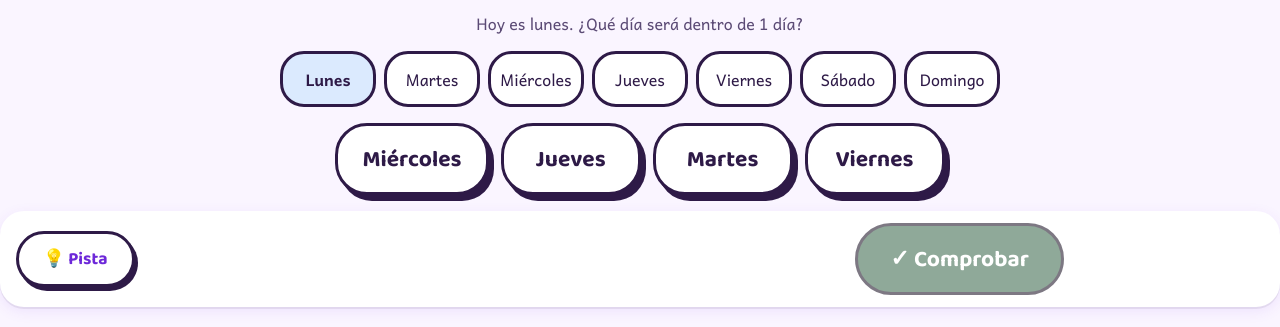
CalendarView › chooses the weekday after the days counted
Click the button "martes" at (723, 159), box [653,123,793,195]
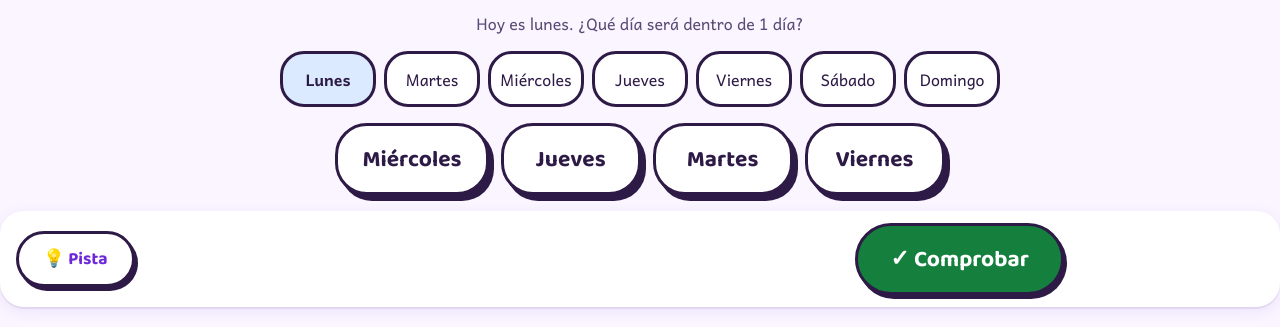
Click the button "✓ Comprobar" at (960, 259), box [855,223,1064,295]
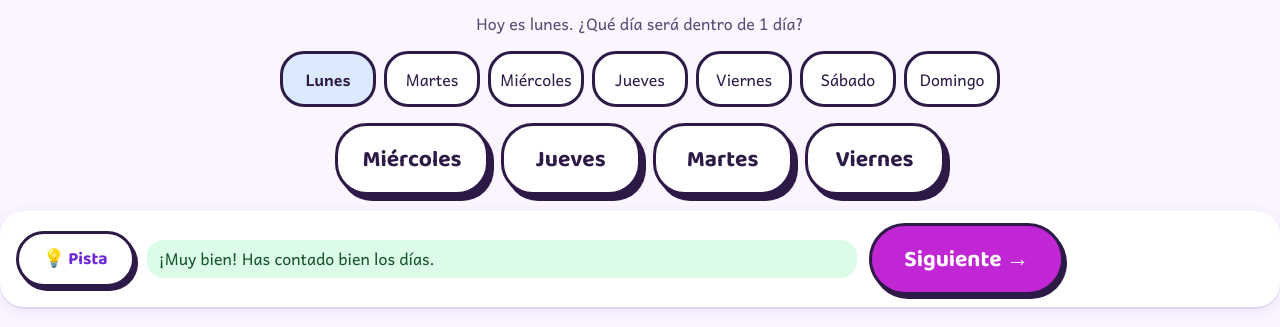
Expected: the text "¡Muy bien! Has contado bien los días." is shown, [147,240,857,278]
